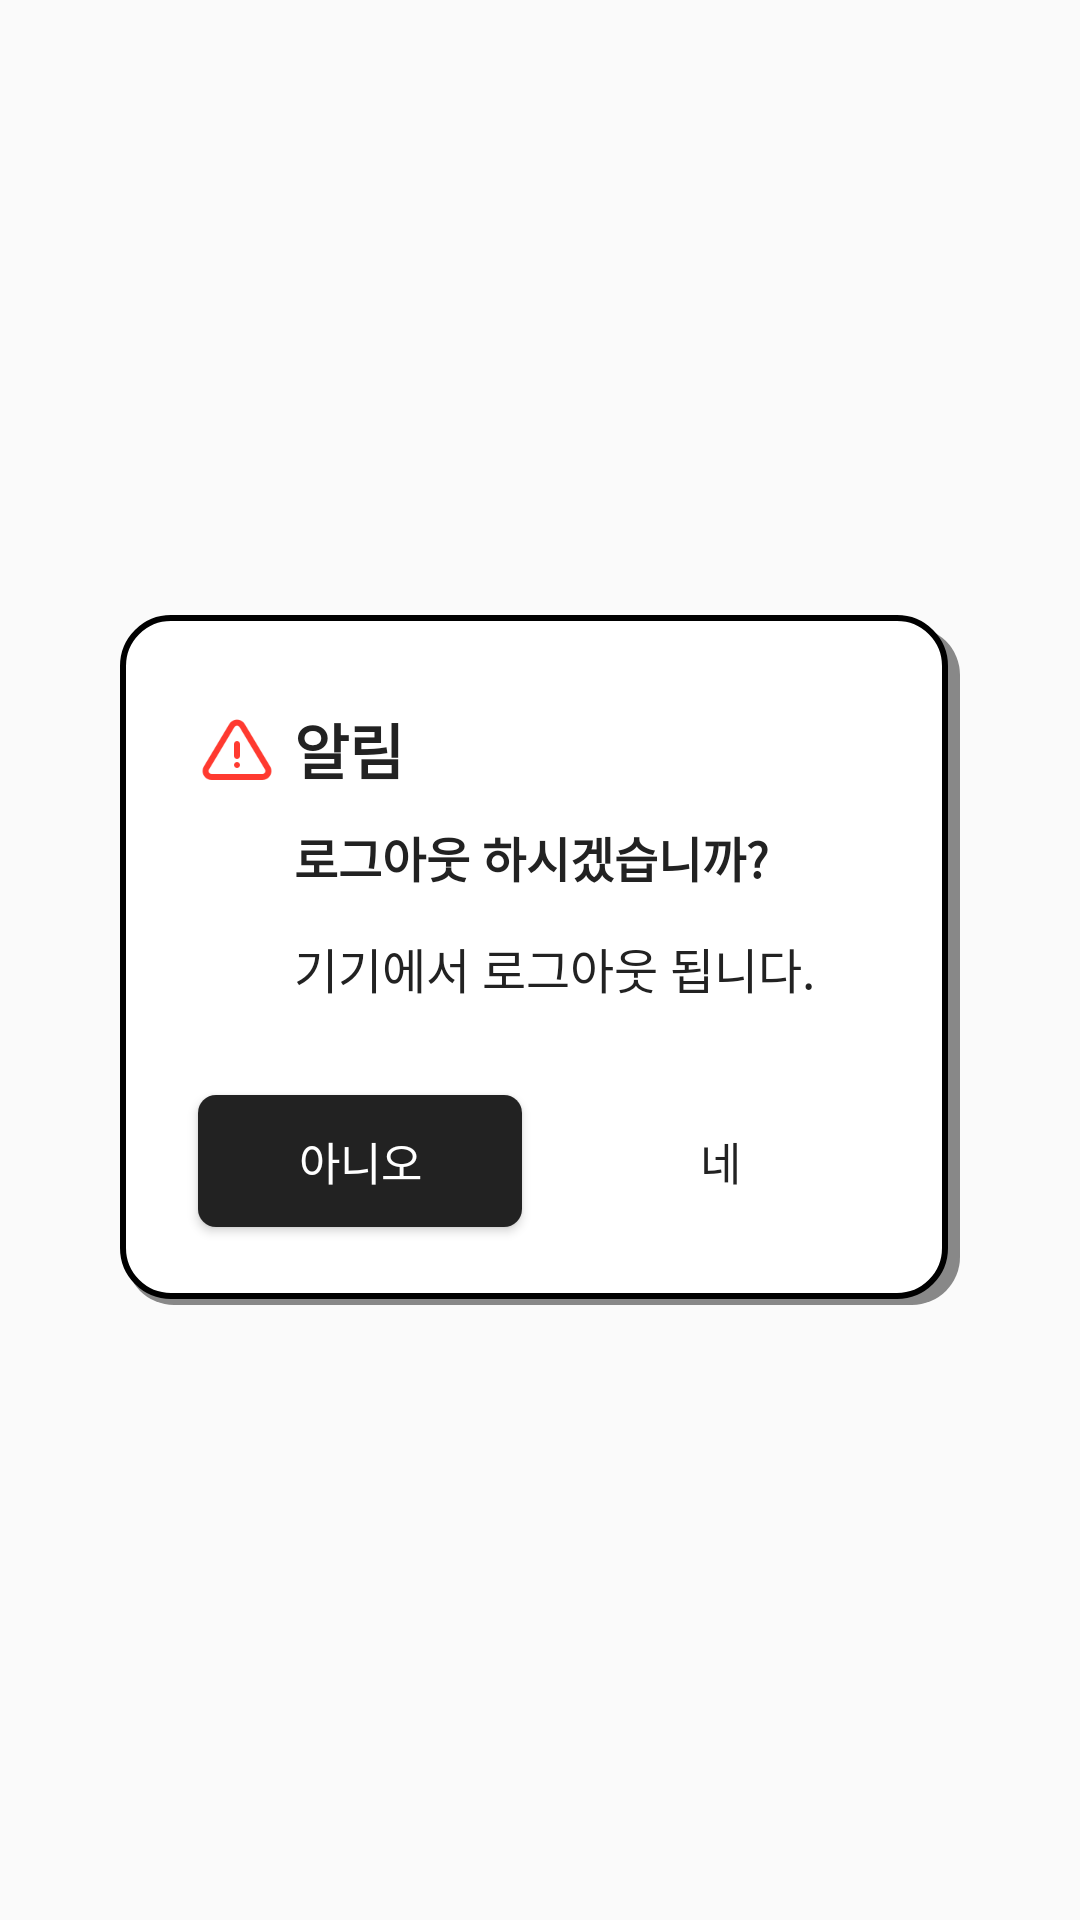

Icon bounding boxes for this 1080x1920 phone screenshot, format {"x1": x1, "y1": y1, "x2": x2, "y2": y2}:
popup caution: {"x1": 202, "y1": 719, "x2": 272, "y2": 780}
